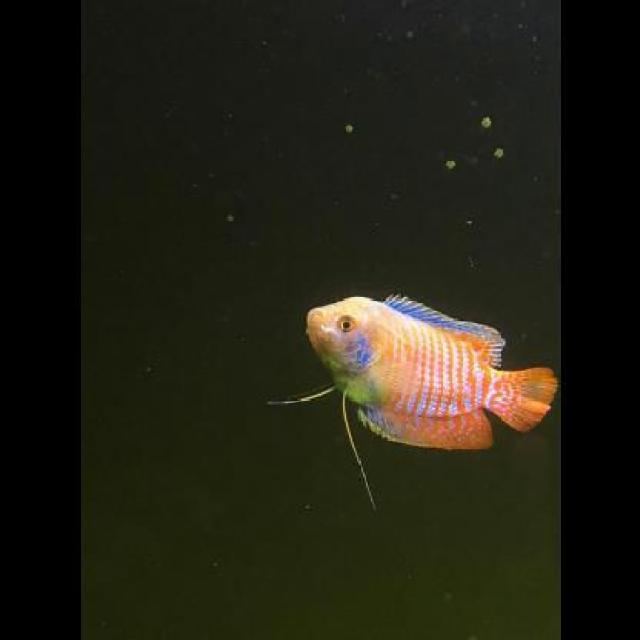Gourami: (306, 278, 562, 458)
